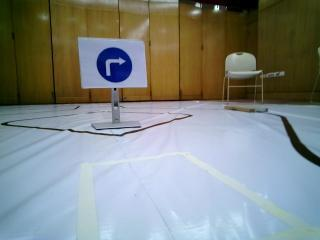right: (77, 38, 145, 87)
